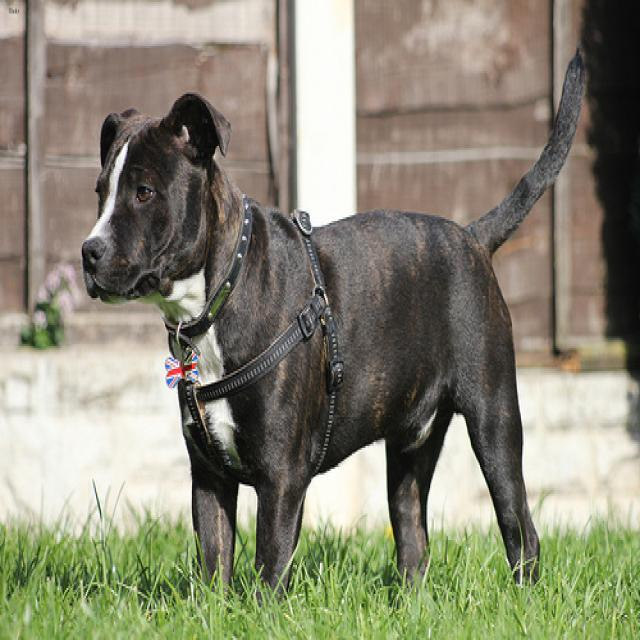dog-staffordshire_bull_terrier: (72, 37, 591, 611)
